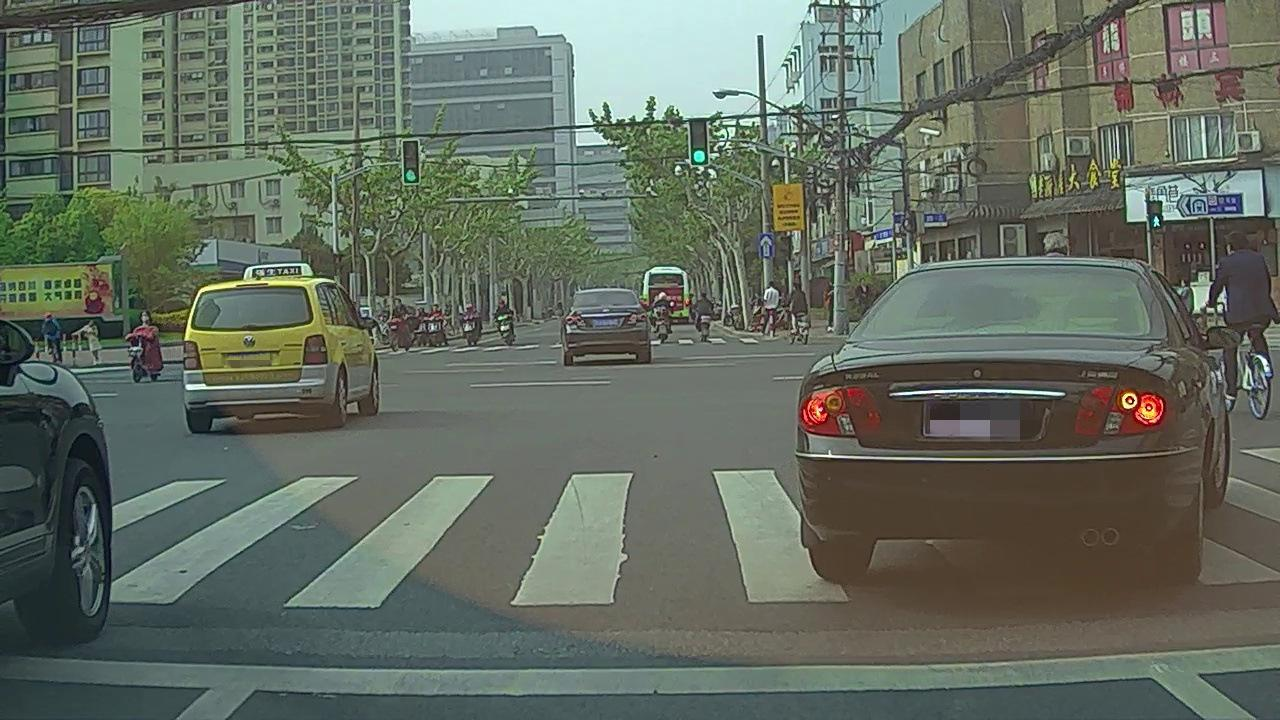traffic_light: (689, 120, 708, 163), (403, 141, 420, 184)
